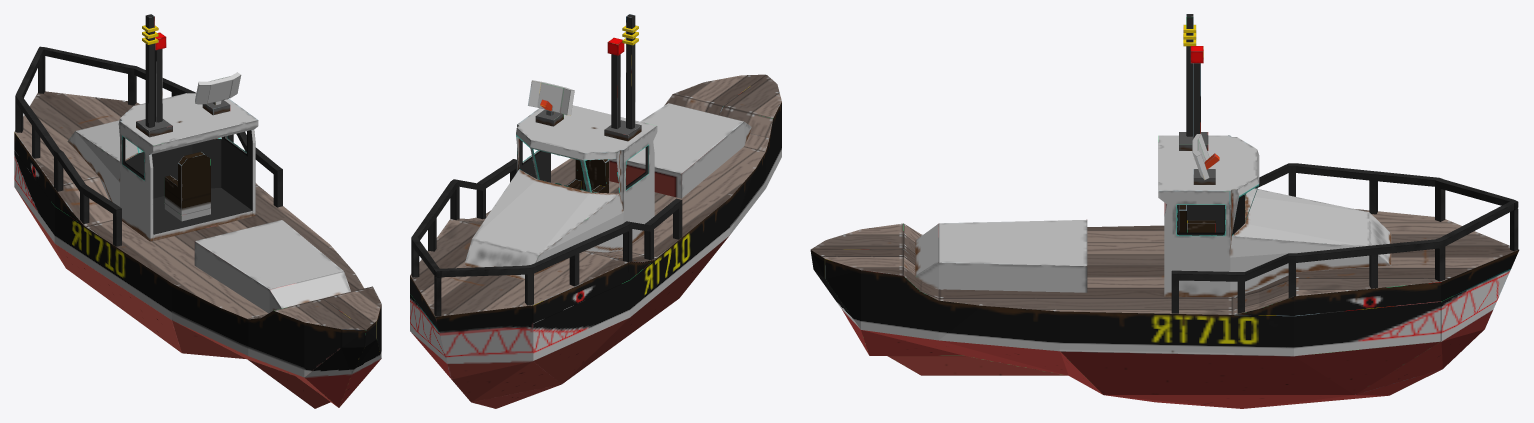
File: BoatNew.obj
The picture shows the model from 3 angles, left to right: view 1: azimuth 30°, elevation 25°; view 2: azimuth 150°, elevation 25°; view 3: azimuth 270°, elevation 25°; orthographic projection. The views are drawn at different scales.
Parts seen in each view (by area): view 1: Basic Shell, Cockpit, Back part, cuboid, Chair, Tall Antenna, Dish, Antenna, Antenna Base; view 2: Basic Shell, Cockpit, cuboid, Back part, Dish, Tall Antenna, Chair, Antenna, Antenna Base; view 3: Basic Shell, Cockpit, Back part, cuboid, Tall Antenna, Antenna, Dish.
Boxes of the visible parts, x1=… form: Basic Shell: x1=14, y1=91, x2=381, y2=408; Cockpit: x1=67, y1=93, x2=258, y2=241; Back part: x1=194, y1=220, x2=350, y2=313; cuboid: x1=15, y1=46, x2=282, y2=246; Chair: x1=164, y1=152, x2=210, y2=214; Tall Antenna: x1=142, y1=14, x2=158, y2=127; Dish: x1=195, y1=72, x2=241, y2=105; Antenna: x1=155, y1=32, x2=166, y2=122; Antenna Base: x1=136, y1=118, x2=172, y2=137; Basic Shell: x1=410, y1=74, x2=781, y2=408; Cockpit: x1=464, y1=105, x2=657, y2=280; cuboid: x1=411, y1=109, x2=682, y2=316; Back part: x1=609, y1=103, x2=751, y2=198; Dish: x1=528, y1=80, x2=574, y2=115; Tall Antenna: x1=622, y1=14, x2=638, y2=129; Chair: x1=567, y1=159, x2=609, y2=193; Antenna: x1=607, y1=37, x2=624, y2=129; Antenna Base: x1=604, y1=120, x2=641, y2=141; Basic Shell: x1=810, y1=208, x2=1519, y2=408; Cockpit: x1=1158, y1=135, x2=1391, y2=297; Back part: x1=903, y1=219, x2=1087, y2=311; cuboid: x1=1171, y1=163, x2=1518, y2=313; Tall Antenna: x1=1183, y1=14, x2=1196, y2=136; Antenna: x1=1190, y1=46, x2=1203, y2=137; Dish: x1=1192, y1=133, x2=1219, y2=179.
Size of the model in its own units: 1.89 by 3.5 by 6.05.
